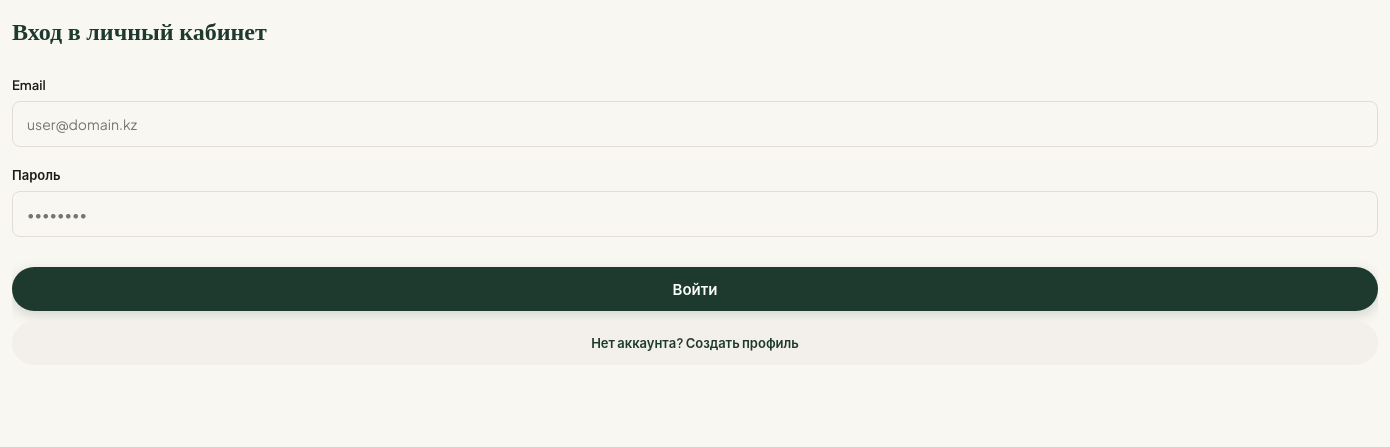
Test case: LoginForm › 429 показывает понятное сообщение (error в ответе: true)
Type "buyer@test.kz" into the field labelled "Email". click: (695, 124)
box: x1=12 y1=101 x2=1378 y2=147
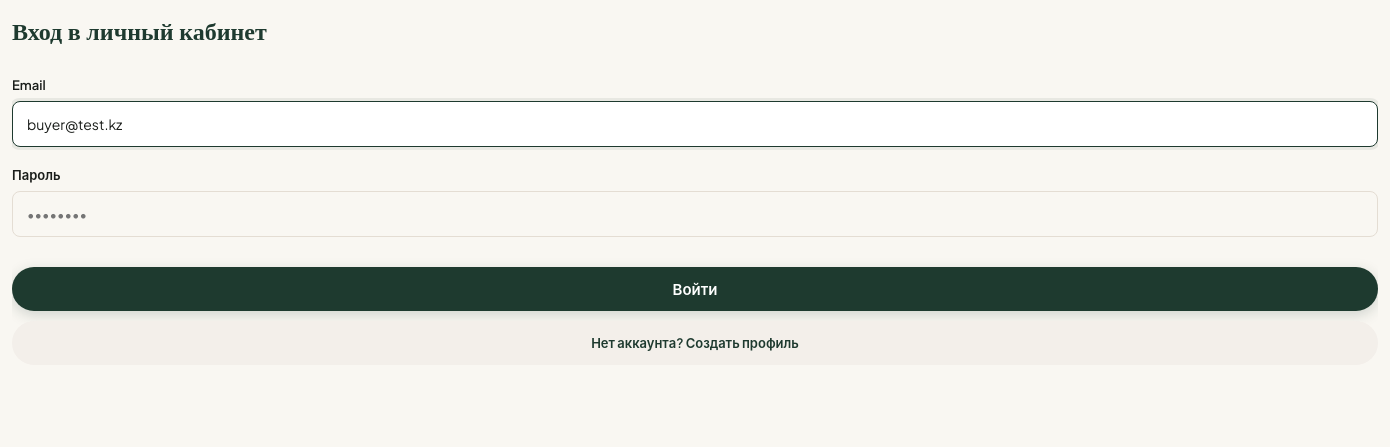
Type "secret123" into the password field labelled "Пароль". click: (695, 214)
box: x1=12 y1=192 x2=1378 y2=238
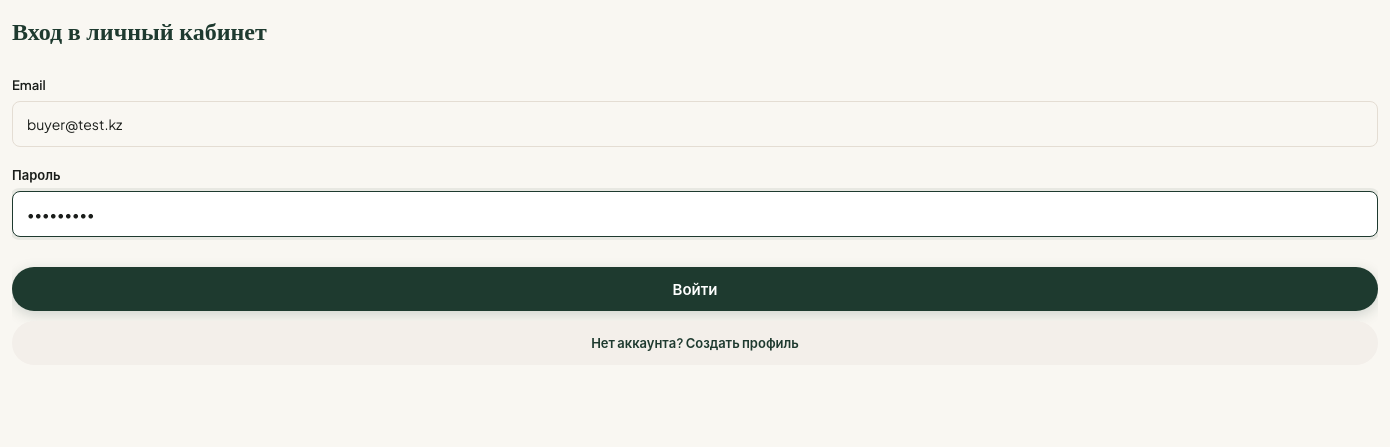
Click the button "Войти". click: (695, 290)
box: x1=12 y1=268 x2=1378 y2=312
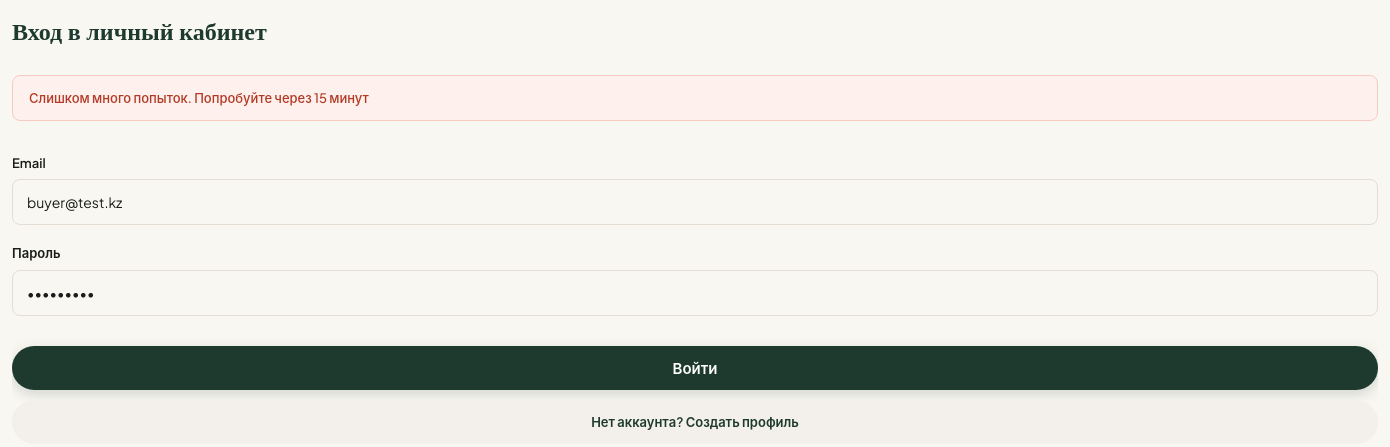
Expected: the button "Войти" is enabled, x1=12 y1=346 x2=1378 y2=390
Expected: the message shows "Слишком много попыток", x1=29 y1=90 x2=369 y2=106
